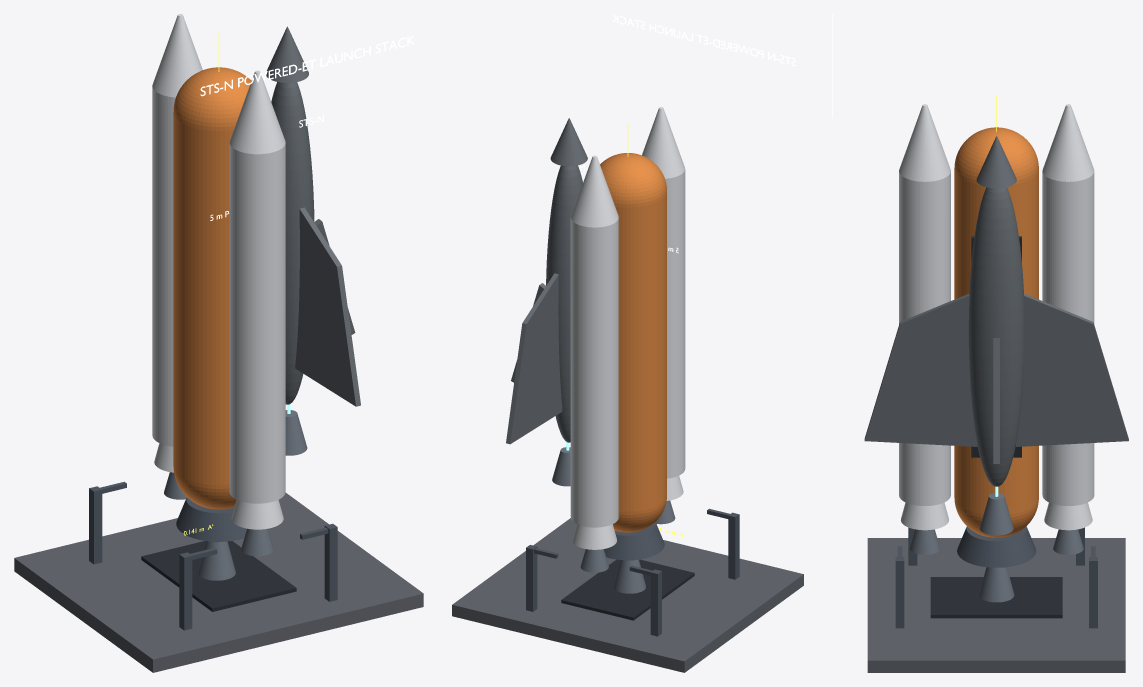
The model's file is STS-N_Launch_Stack.glb.
3 views of the same model, side by side, from view 1: azimuth 30°, elevation 25°; view 2: azimuth 150°, elevation 25°; view 3: azimuth 270°, elevation 25° (orthographic). The views are drawn at different scales.
Parts seen in each view (by area): view 1: MLP_deck, ET_barrel, RSRB_R_case, STS-N_left_wing, RSRB_L_case, STS-N_fuselage, MLP_trench, ET_forward_dome, RSRB_R_nose, RSRB_L_nose, NR-AD-CAP, STS-N_nose (+9 smaller); view 2: MLP_deck, ET_barrel, RSRB_L_case, STS-N_right_wing, RSRB_R_case, STS-N_fuselage, MLP_trench, ET_forward_dome, RSRB_L_nose, RSRB_R_nose, NR-AD-CAP, STS-N_nose (+9 smaller); view 3: MLP_deck, STS-N_fuselage, STS-N_right_wing, STS-N_left_wing, RSRB_L_case, RSRB_R_case, ET_barrel, MLP_trench, ET_forward_dome, RSRB_L_nose, RSRB_R_nose, NR-AD-CAP (+11 smaller).
Part boxes in pixels (x1=…): MLP_deck: x1=14, y1=492, x2=423, y2=672; ET_barrel: x1=173, y1=113, x2=233, y2=485; RSRB_R_case: x1=229, y1=143, x2=285, y2=503; STS-N_left_wing: x1=295, y1=207, x2=360, y2=406; RSRB_L_case: x1=152, y1=87, x2=175, y2=446; STS-N_fuselage: x1=271, y1=82, x2=314, y2=404; MLP_trench: x1=141, y1=541, x2=296, y2=611; ET_forward_dome: x1=173, y1=67, x2=251, y2=130; RSRB_R_nose: x1=229, y1=70, x2=285, y2=154; RSRB_L_nose: x1=152, y1=14, x2=202, y2=97; NR-AD-CAP: x1=176, y1=497, x2=246, y2=541; STS-N_nose: x1=266, y1=26, x2=308, y2=82; MLP_deck: x1=452, y1=518, x2=803, y2=672; ET_barrel: x1=615, y1=193, x2=666, y2=511; RSRB_L_case: x1=570, y1=217, x2=618, y2=527; STS-N_right_wing: x1=506, y1=273, x2=562, y2=444; RSRB_R_case: x1=665, y1=169, x2=685, y2=478; STS-N_fuselage: x1=546, y1=165, x2=582, y2=442; MLP_trench: x1=561, y1=559, x2=694, y2=620; ET_forward_dome: x1=600, y1=153, x2=666, y2=207; RSRB_L_nose: x1=571, y1=155, x2=618, y2=227; RSRB_R_nose: x1=642, y1=107, x2=684, y2=178; NR-AD-CAP: x1=604, y1=522, x2=664, y2=560; STS-N_nose: x1=550, y1=118, x2=587, y2=166; MLP_deck: x1=867, y1=538, x2=1125, y2=672; STS-N_fuselage: x1=968, y1=187, x2=1024, y2=486; STS-N_right_wing: x1=1016, y1=293, x2=1128, y2=446; STS-N_left_wing: x1=864, y1=293, x2=977, y2=446; RSRB_L_case: x1=1042, y1=171, x2=1094, y2=505; RSRB_R_case: x1=899, y1=172, x2=950, y2=505; ET_barrel: x1=954, y1=169, x2=1038, y2=514; MLP_trench: x1=930, y1=577, x2=1062, y2=618; ET_forward_dome: x1=954, y1=127, x2=1038, y2=184; RSRB_L_nose: x1=1042, y1=104, x2=1094, y2=181; RSRB_R_nose: x1=899, y1=104, x2=950, y2=181; NR-AD-CAP: x1=957, y1=526, x2=1036, y2=567.
Size of what is drawn, in the model's own units: 18 by 37.69 by 18.41.
